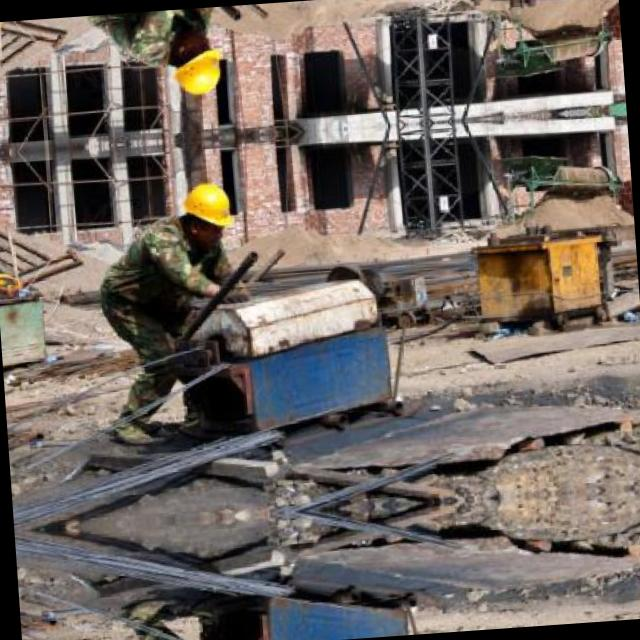helmet: (172, 172, 240, 252), (162, 22, 230, 102)
